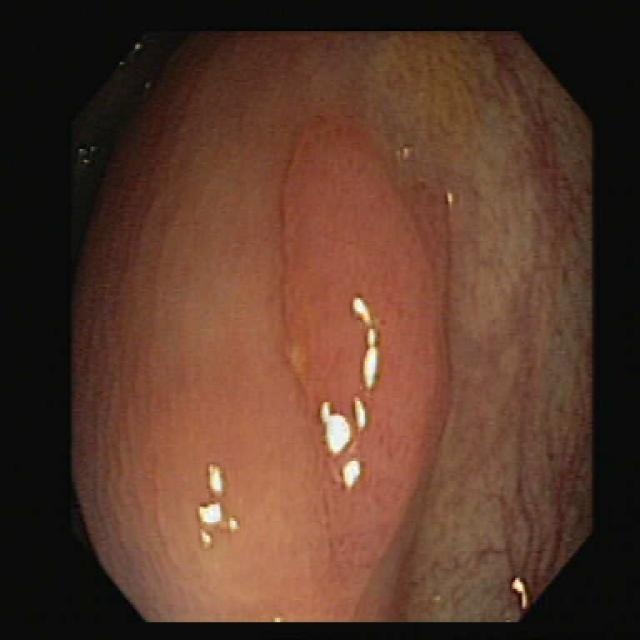tumor: (280, 118, 450, 618)
